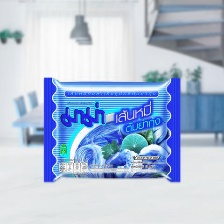snack: (30, 68, 188, 188)
